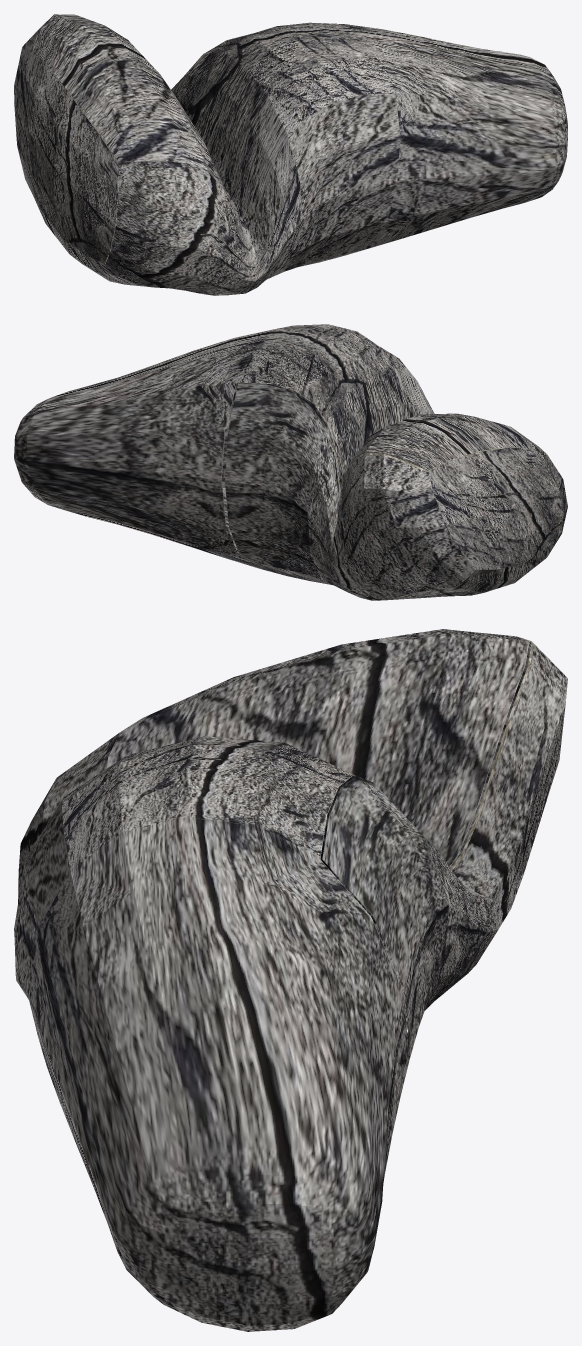
File: rock1.obj
The picture shows the model from 3 angles, top to bottom: view 1: azimuth 30°, elevation 25°; view 2: azimuth 150°, elevation 25°; view 3: azimuth 270°, elevation 25°; orthographic projection. The views are drawn at different scales.
Parts seen in each view (by area): view 1: Cube; view 2: Cube; view 3: Cube.
Part boxes in pixels (x1,y1,x2,y2): Cube: (14,14,567,295); Cube: (14,324,567,600); Cube: (14,629,567,1331).
Bounding box in the file's own units: 3.97 × 1.71 × 2.19.
Materials: 1 (1 with a texture image).
